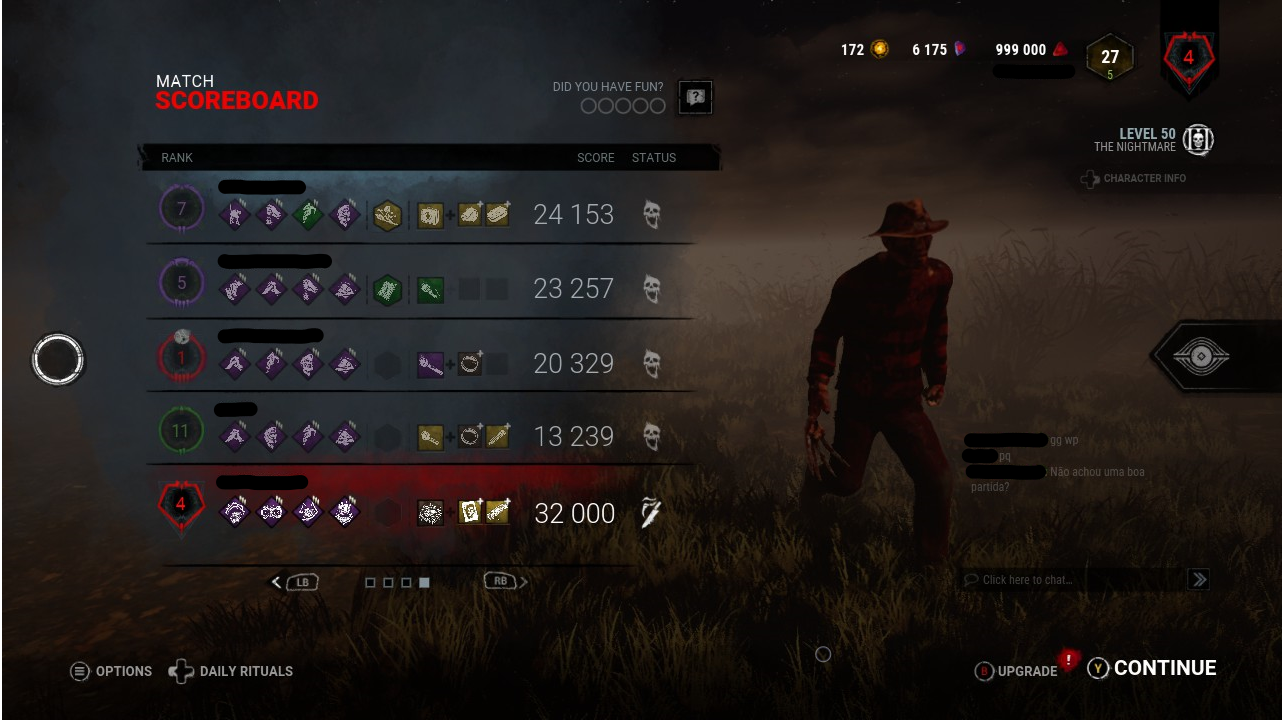bbq_and_chilli: (329, 496, 362, 528)
borrowed_time: (255, 199, 288, 231), (292, 273, 325, 305)
corrupt_intervention: (219, 496, 252, 528)
dead_hard: (292, 199, 325, 231), (255, 348, 288, 380), (292, 421, 325, 453)
decisive_strike: (255, 274, 288, 306), (219, 348, 252, 380), (219, 421, 252, 453)
hex:ruin: (292, 496, 325, 528)
iron_will: (329, 273, 362, 305), (328, 348, 361, 380), (329, 421, 362, 453)
lightborn: (255, 496, 288, 528)
spine_chill: (218, 199, 251, 231)
sprint_burst: (218, 273, 251, 305)
unbreakable: (329, 198, 362, 230), (291, 348, 324, 380), (255, 421, 288, 453)
